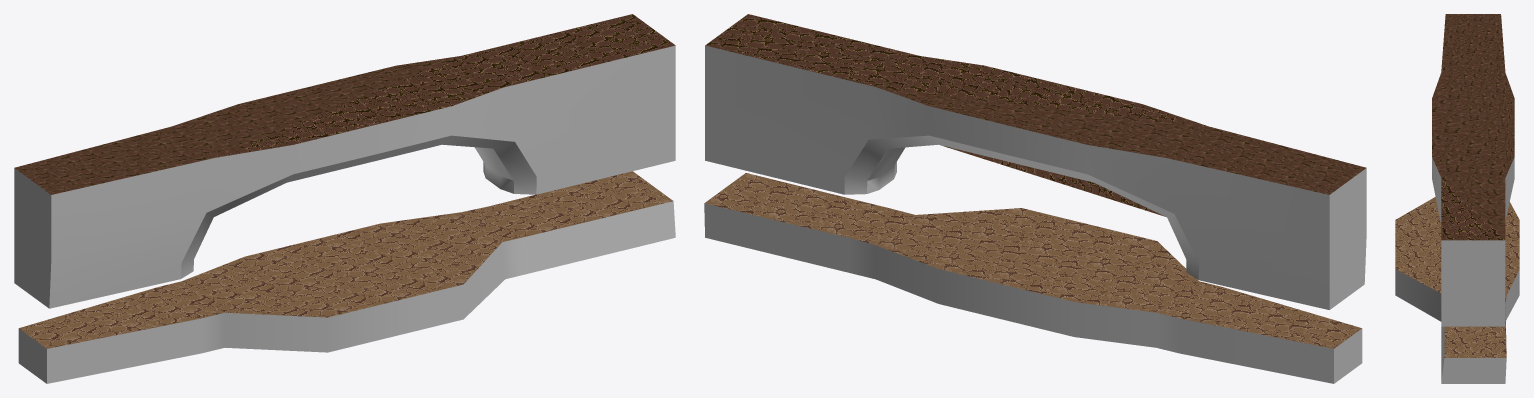
The model's file is Room10.fbx.
The picture shows the model from 3 angles, left to right: view 1: azimuth 30°, elevation 25°; view 2: azimuth 150°, elevation 25°; view 3: azimuth 270°, elevation 25°; orthographic projection. The views are drawn at different scales.
Parts seen in each view (by area): view 1: polySurface293; view 2: polySurface293; view 3: polySurface293.
Part boxes in pixels (x1,y1,x2,y2): polySurface293: (14, 14, 675, 383); polySurface293: (704, 14, 1366, 383); polySurface293: (1395, 14, 1519, 383).
Bounding box in the file's own units: 18.56 × 5.49 × 4.31.
